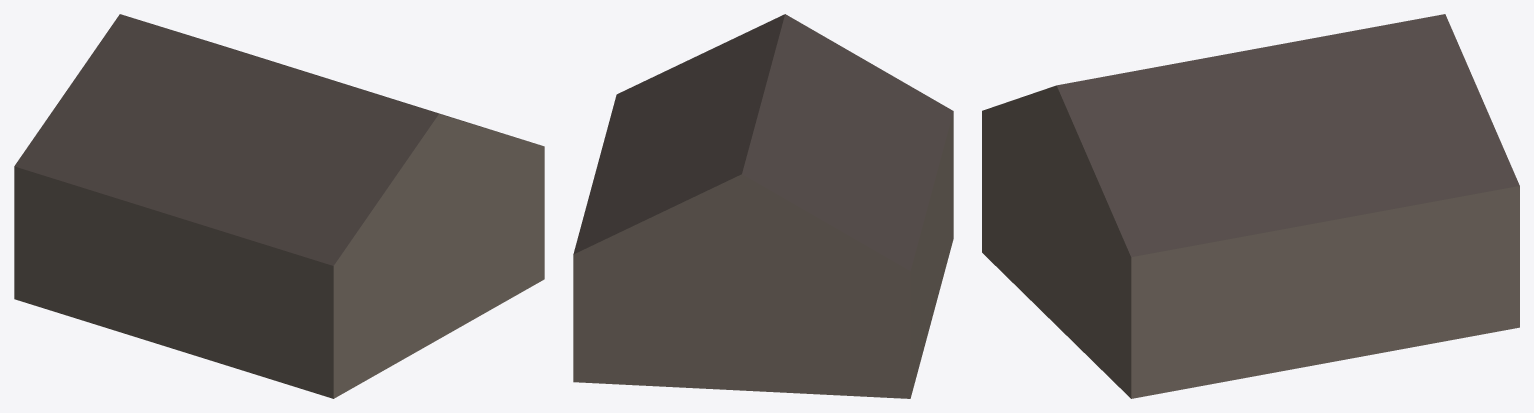
3 renders of one model, left to right at view 1: azimuth 30°, elevation 25°; view 2: azimuth 150°, elevation 25°; view 3: azimuth 270°, elevation 25°, orthographic. The views are drawn at different scales.
Parts seen in each view (by area): view 1: HP-w859088442; view 2: HP-w859088442; view 3: HP-w859088442.
Part boxes in pixels (bbox=[...]): HP-w859088442: bbox=[14, 14, 544, 398]; HP-w859088442: bbox=[573, 14, 953, 398]; HP-w859088442: bbox=[982, 14, 1519, 398].
Bounding box in the file's own units: 19.77 × 10.18 × 20.63.
